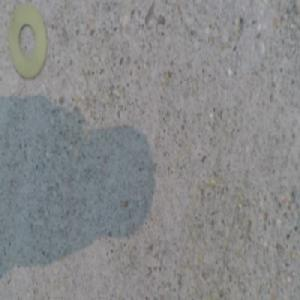Washer: (9, 6, 47, 77)
